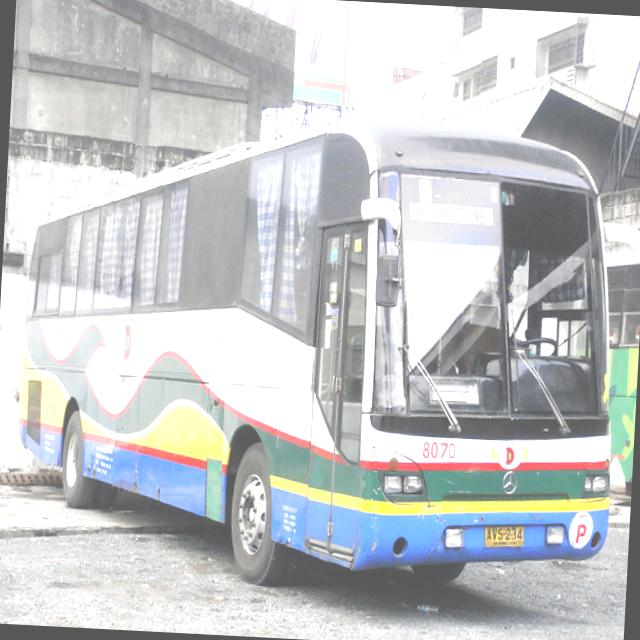Vehicle: (9, 98, 636, 614), (591, 243, 640, 519)
